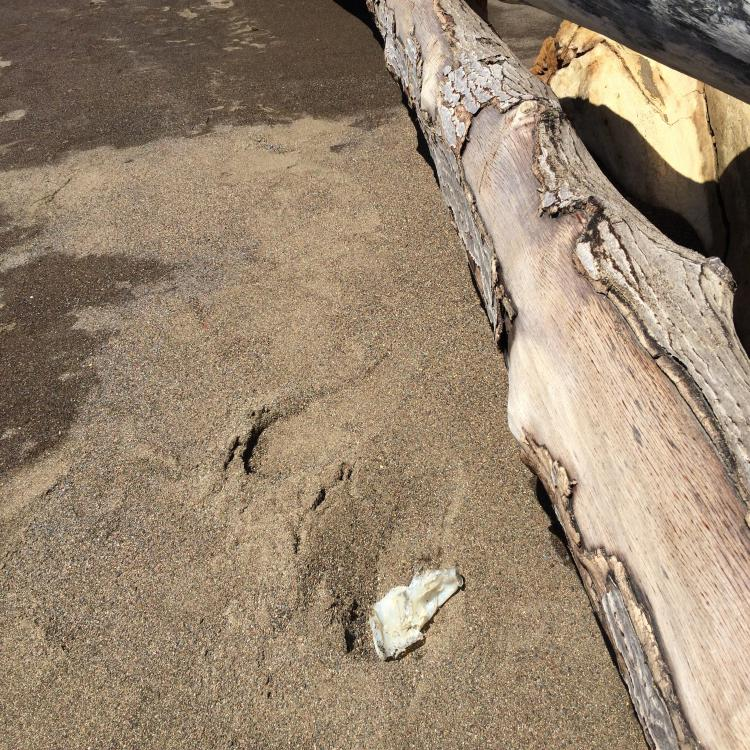Other plastic wrapper: (369, 565, 463, 661)
